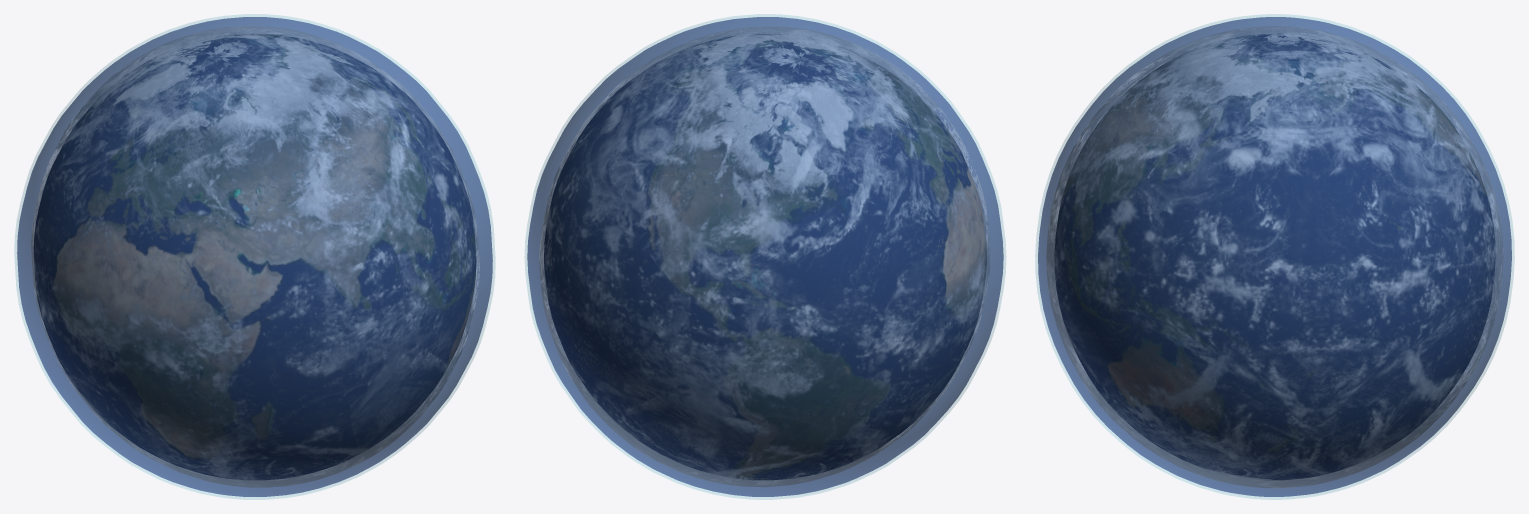
The model's file is earth.glb.
3 renders of one model, left to right at view 1: azimuth 30°, elevation 25°; view 2: azimuth 150°, elevation 25°; view 3: azimuth 270°, elevation 25°, orthographic.
Visible parts, largest first — view 1: Atmosfera, Tierra, Nubes, Atmosfera1; view 2: Atmosfera, Tierra, Nubes, Atmosfera1; view 3: Atmosfera, Tierra, Nubes, Atmosfera1.
Part boxes in pixels (x1,y1,x2,y2): Atmosfera: (17, 17, 492, 496); Tierra: (34, 34, 475, 479); Nubes: (31, 26, 479, 487); Atmosfera1: (14, 14, 495, 499); Atmosfera: (527, 17, 1003, 496); Tierra: (544, 34, 986, 479); Nubes: (539, 26, 990, 486); Atmosfera1: (524, 14, 1006, 499); Atmosfera: (1038, 17, 1511, 496); Tierra: (1055, 34, 1495, 479); Nubes: (1046, 26, 1502, 487); Atmosfera1: (1035, 14, 1514, 499).
Size of the model in its own units: 423 by 428 by 423.
